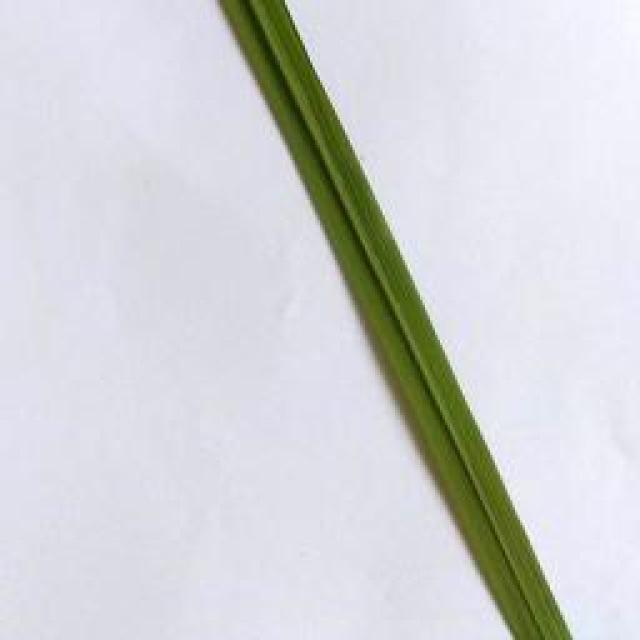Healthy-Plant: (221, 0, 573, 640)
